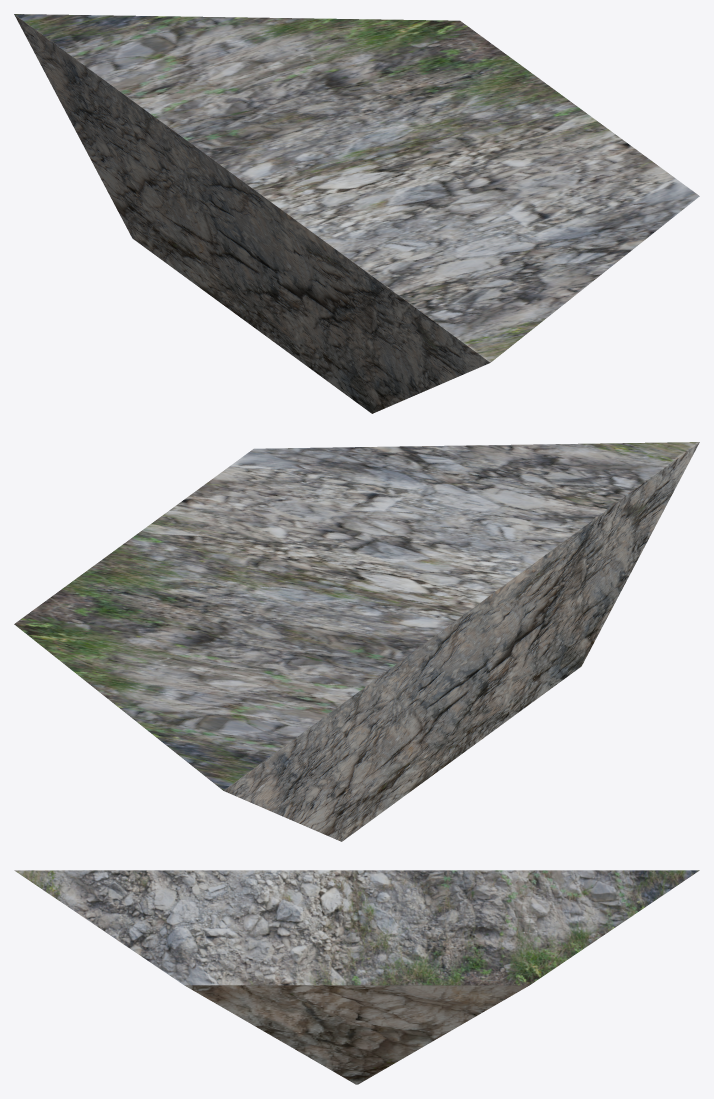
The model's file is plateform.dae.
3 renders of one model, top to bottom at view 1: azimuth 30°, elevation 25°; view 2: azimuth 150°, elevation 25°; view 3: azimuth 270°, elevation 25°, orthographic. The views are drawn at different scales.
Parts seen in each view (by area): view 1: Cube; view 2: Cube; view 3: Cube.
Part boxes in pixels (box(x1,y1,x2,y2)): Cube: box(14, 14, 699, 413); Cube: box(14, 442, 699, 841); Cube: box(14, 870, 699, 1084).
Size of the model in its own units: 4.98 by 12.54 by 2.
Materials: 1 (1 with a texture image).
